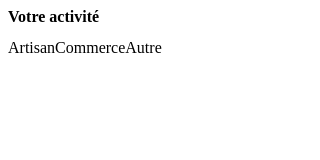
ChoiceChips › choisit une réponse au clic
What coordinates should you click on to do the following:
click the text "Commerce"
I would click on:
 (90, 48)
Its box is [55, 39, 125, 56].
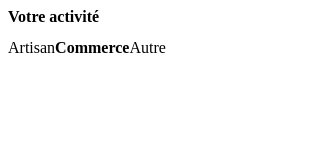
Expected: the radio button labelled "Commerce" is checked, [55, 39, 129, 56]
